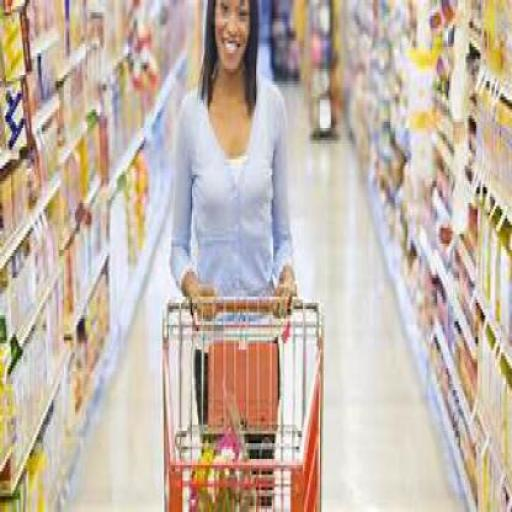shopping_cart: (161, 296, 326, 512)
